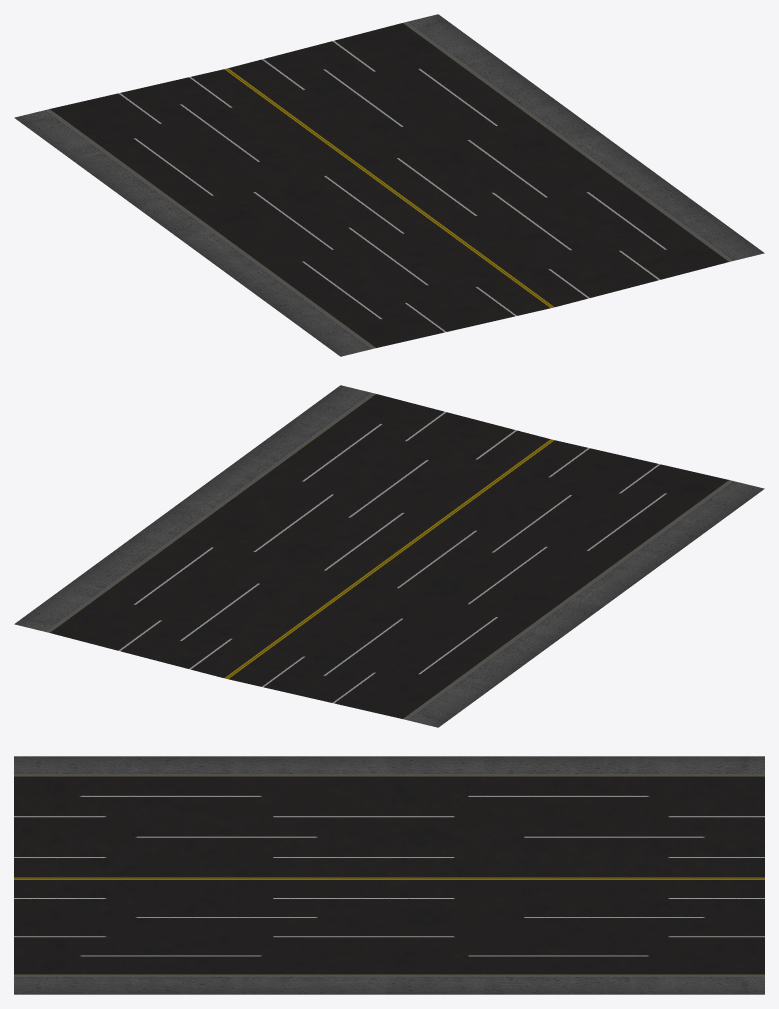
File: RJs_Road 5+5 Basic Segment_lod.fbx
3 renders of one model, top to bottom at view 1: azimuth 30°, elevation 25°; view 2: azimuth 150°, elevation 25°; view 3: azimuth 270°, elevation 25°, orthographic. The views are drawn at different scales.
Visible parts, largest first — view 1: plane_lod; view 2: plane_lod; view 3: plane_lod.
Boxes of the visible parts, box(x1,y1,x2,y2) form: plane_lod: box(14, 14, 764, 356); plane_lod: box(14, 385, 764, 727); plane_lod: box(14, 756, 764, 994).
Size of the model in its own units: 4800 by 30.1 by 6400.
